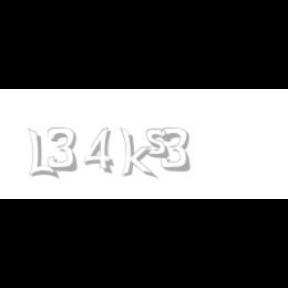3: (161, 128, 192, 172), (48, 128, 78, 172)
4: (84, 128, 114, 174)
L: (28, 128, 56, 180)
k: (119, 128, 157, 180)
s: (146, 128, 174, 160)
